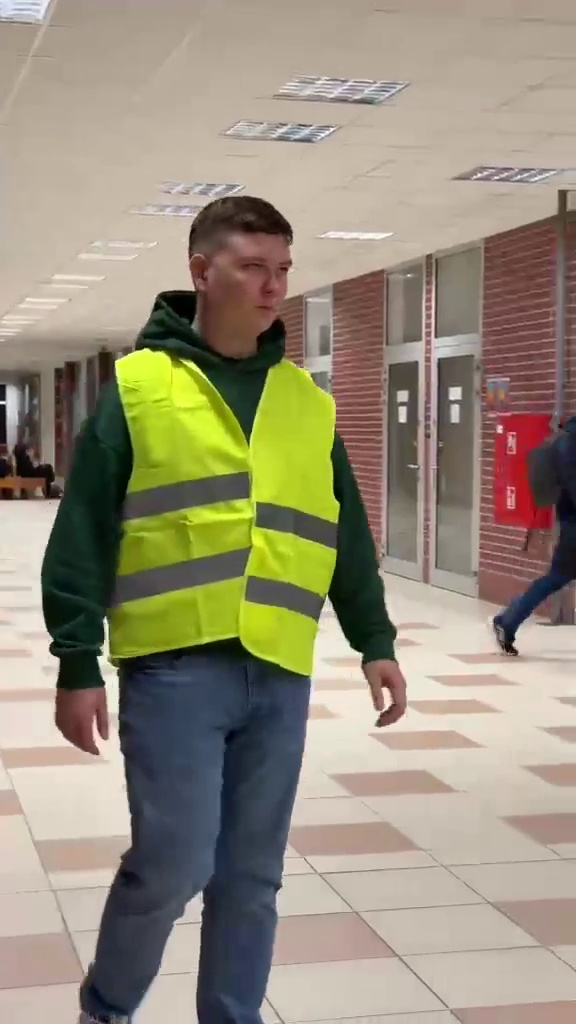no vest: (477, 397, 576, 674)
vest: (40, 196, 414, 968)
